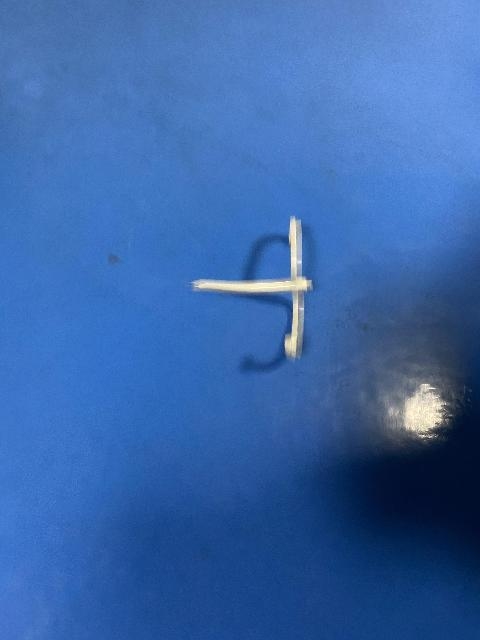Plastik: (190, 219, 332, 359)
